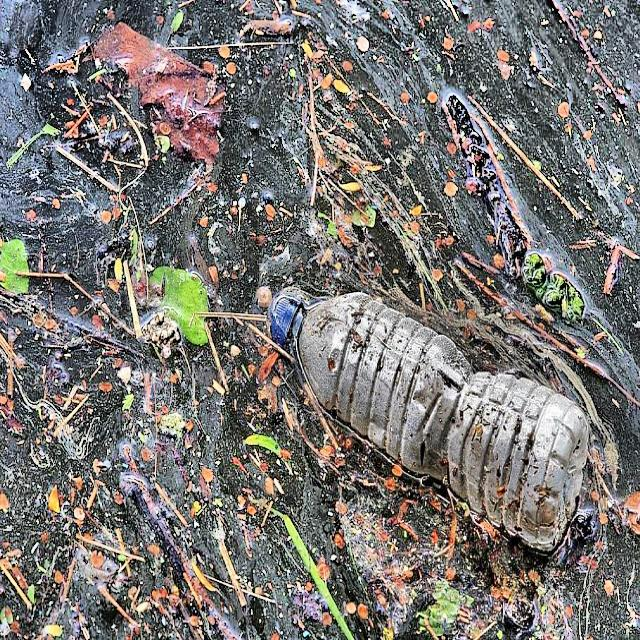Bottles: (262, 278, 589, 574)
